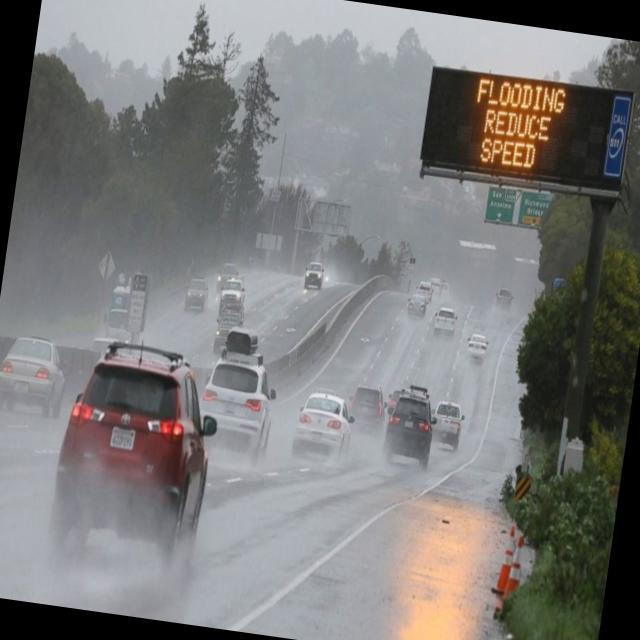bus: (100, 285, 148, 347)
car: (44, 340, 225, 580), (194, 353, 278, 453), (0, 332, 69, 420), (381, 385, 441, 470), (294, 390, 358, 452), (344, 382, 386, 444), (430, 401, 466, 451), (212, 311, 244, 353), (182, 276, 210, 312), (220, 278, 248, 310), (432, 305, 458, 336), (464, 332, 489, 364), (302, 260, 326, 292), (404, 291, 430, 320), (494, 284, 516, 313), (217, 260, 240, 286), (387, 388, 404, 418), (414, 279, 434, 303)
